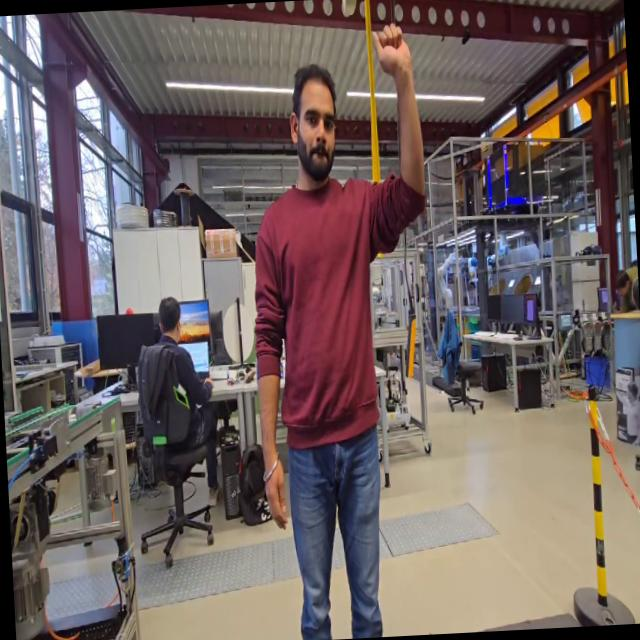closed_fist: (368, 16, 417, 87)
